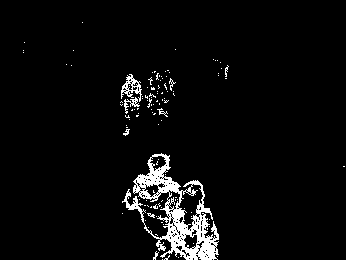person: (123, 154, 181, 260), (158, 179, 222, 260), (118, 72, 142, 139)
